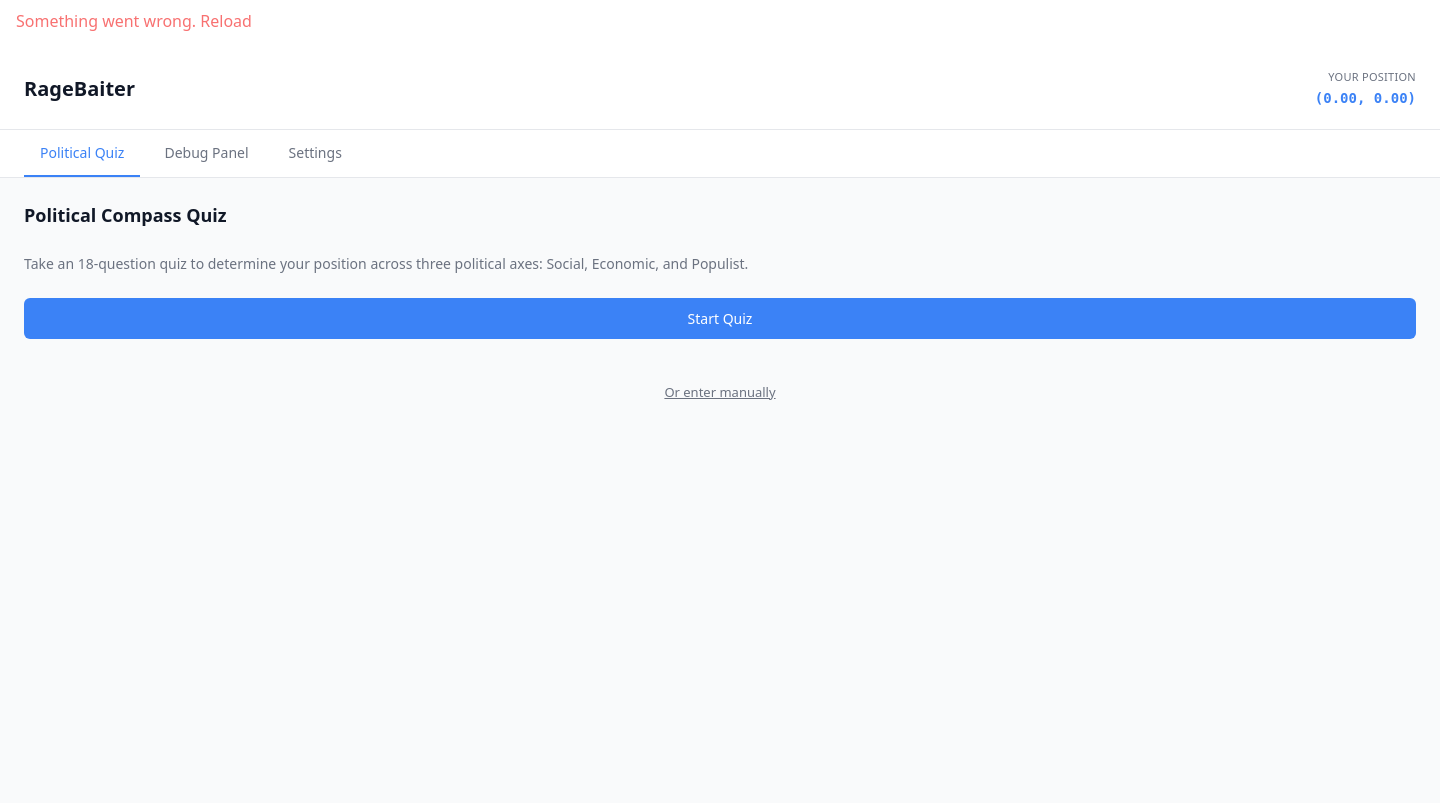
Test: SidePanel Auth & Logout › clears local auth state even if backend logout fails
The width and height of the screenshot is (1440, 803).
Expected: the heading "RageBaiter" is shown, [24, 74, 135, 104]
Click the button "Settings": point(315, 153) [273, 130, 358, 176]
(page scrolled)
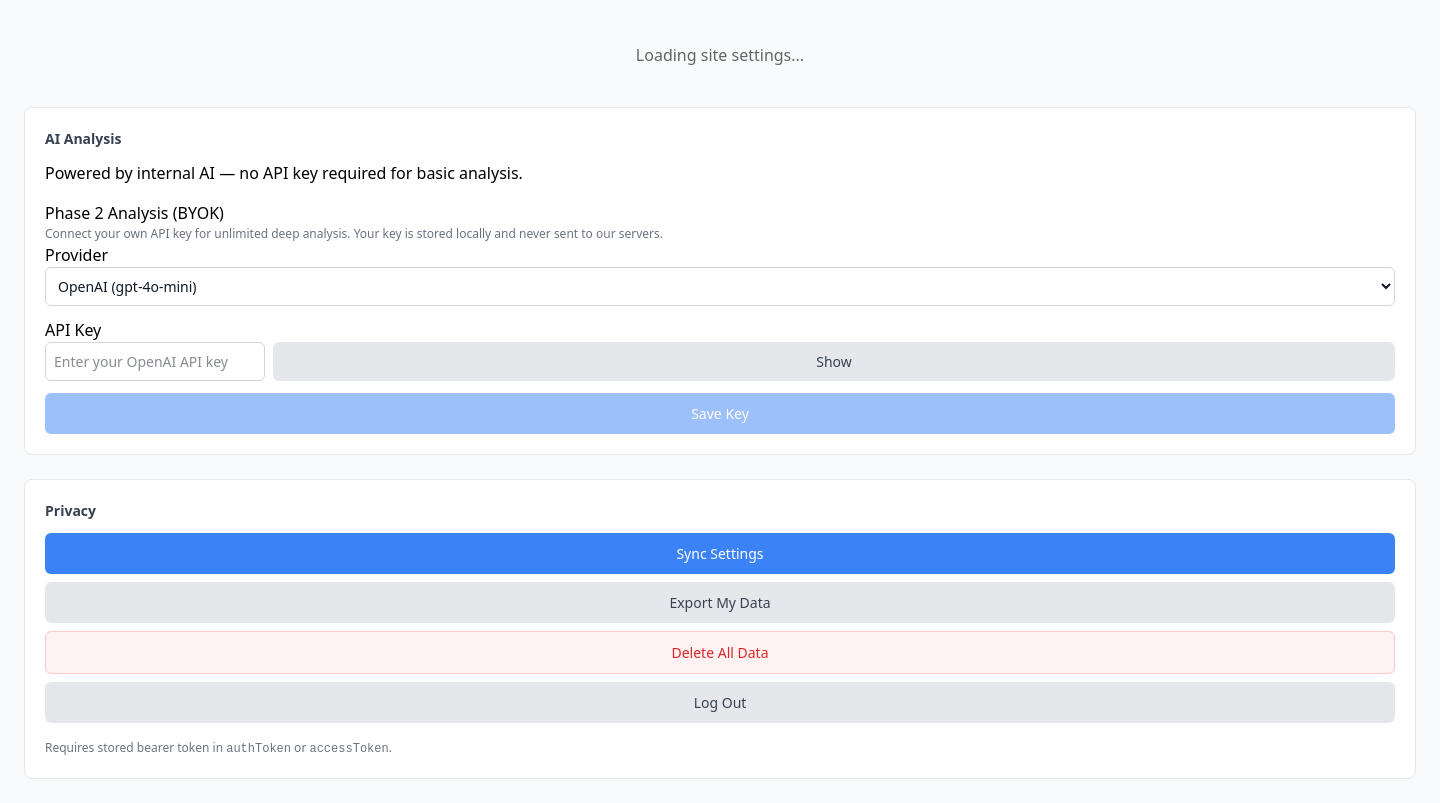
Expected: the button "Log Out" is shown
Click the button "Log Out": point(720, 702) [45, 682, 1395, 722]
(page scrolled)
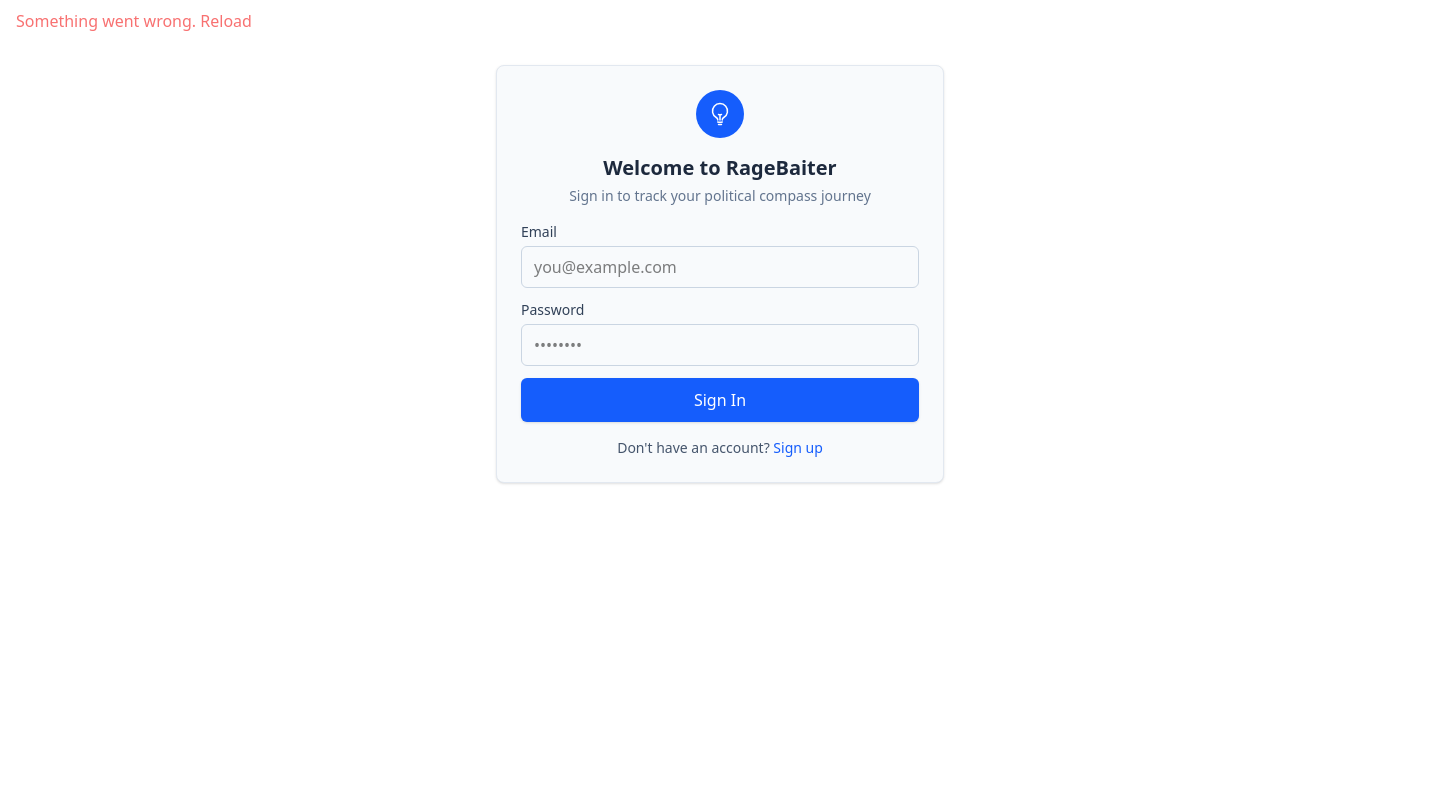
Expected: the button "Sign In" is shown, [521, 378, 919, 422]
Expected: the button "Log Out" is gone
